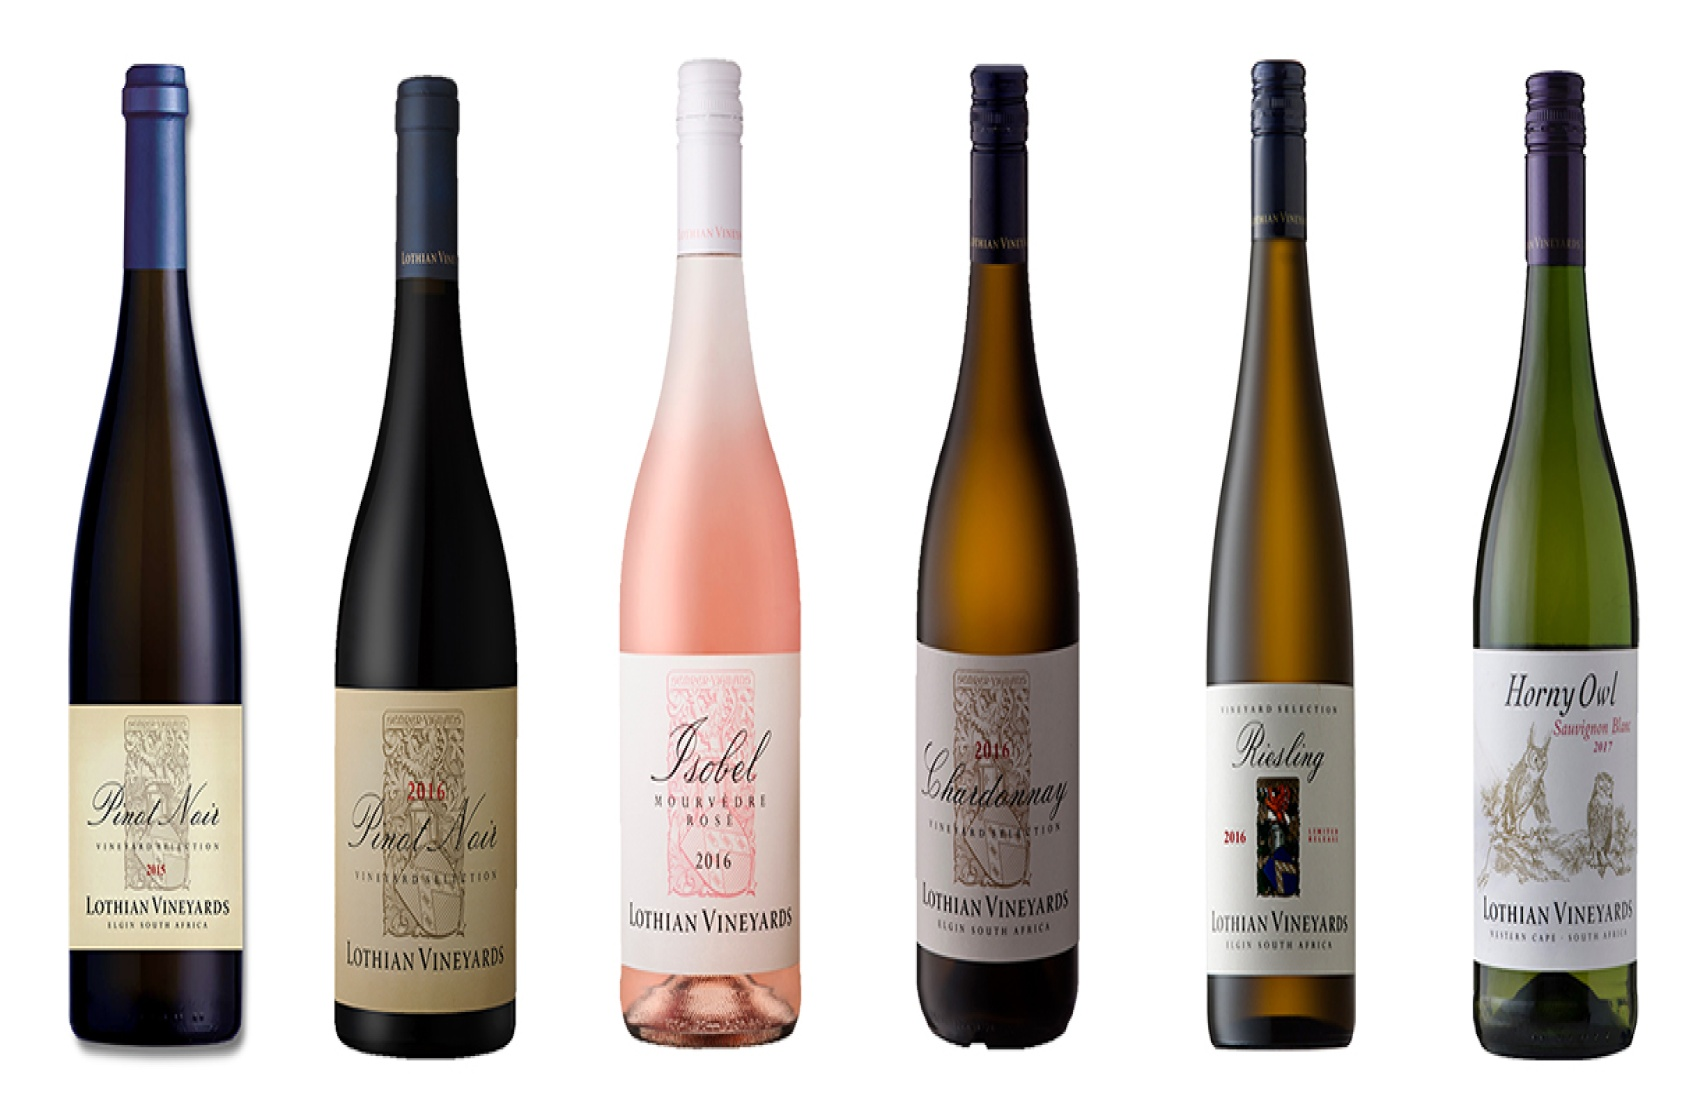wine: (611, 71, 802, 1059), (341, 71, 519, 1059), (66, 56, 244, 1044), (911, 69, 1085, 1047), (1468, 73, 1639, 1050), (1207, 64, 1359, 1041)
